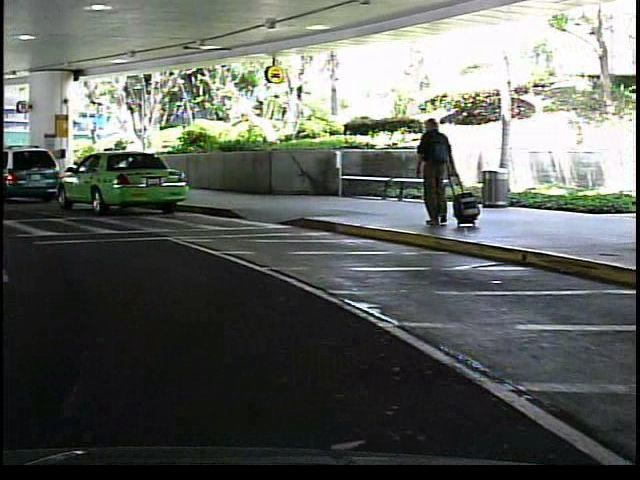person: (408, 113, 459, 238)
